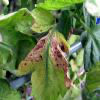Tomato Early blight leaf: (20, 20, 74, 99)
